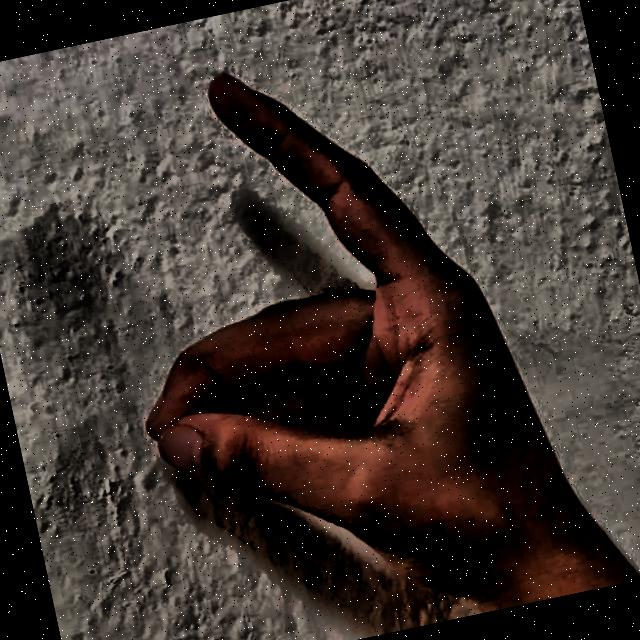Dha: (54, 0, 639, 640)
